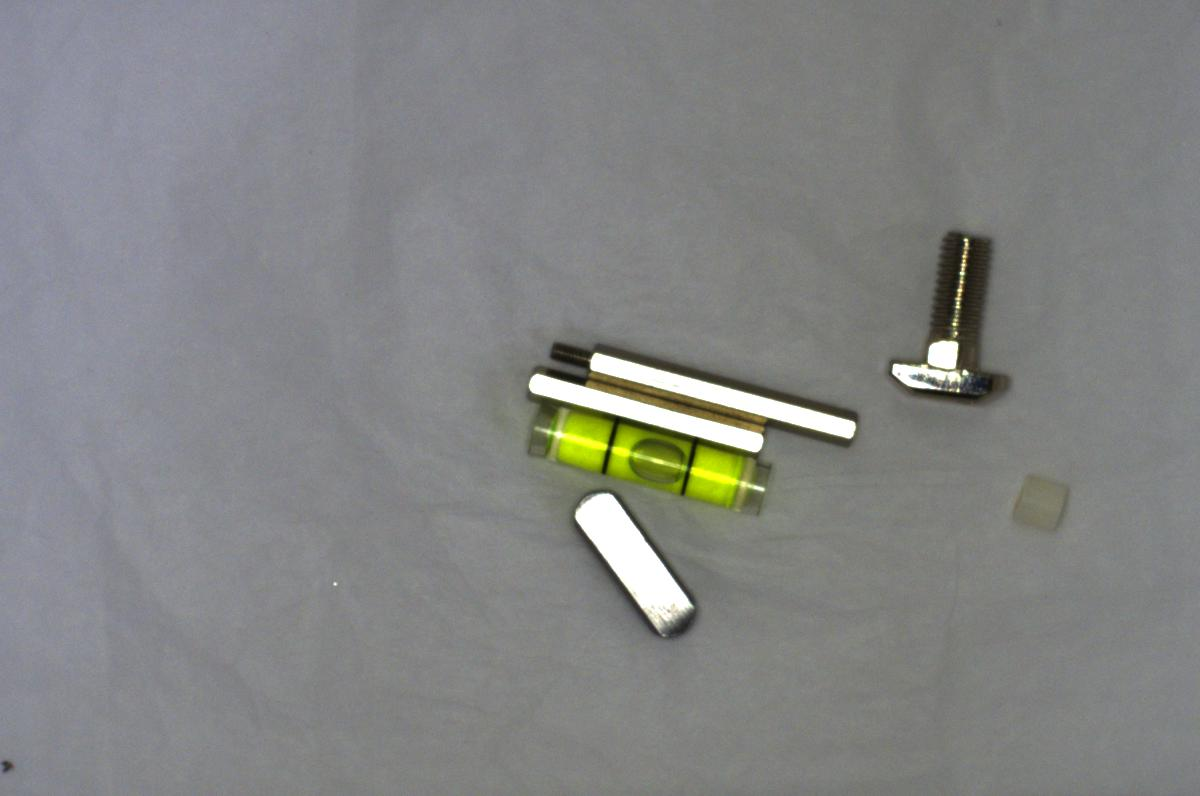Double hexagonal column: (515, 358, 771, 459)
Hexagonal steel column: (547, 338, 860, 448)
Horizontal bubble: (520, 405, 780, 523)
Keybar: (571, 482, 700, 643)
Plastic cushion pillar: (999, 462, 1078, 539)
T-shaped screw: (885, 229, 1017, 410)
